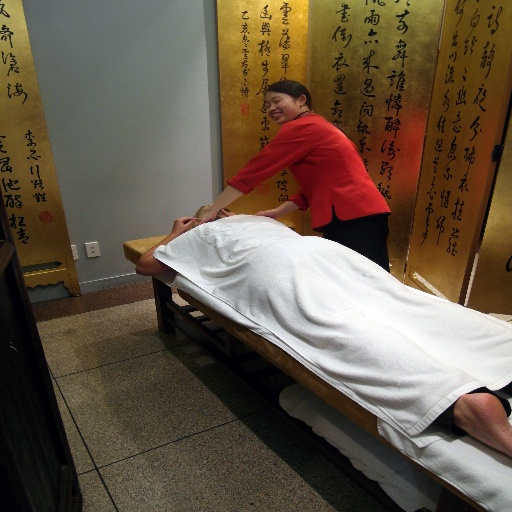hand: (171, 215, 198, 232), (190, 209, 218, 225), (251, 208, 283, 219)
